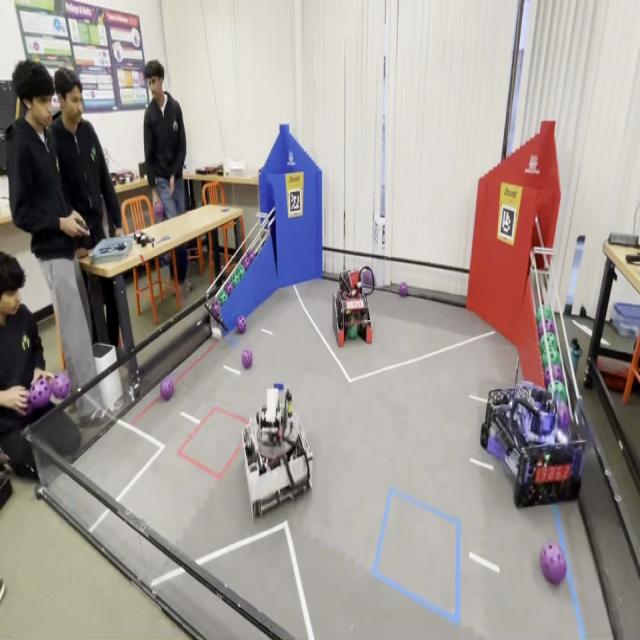artifact_green: (548, 381, 567, 405), (556, 401, 571, 431), (542, 349, 560, 369), (536, 305, 553, 324), (540, 334, 559, 351), (154, 200, 163, 221), (217, 290, 228, 306), (398, 281, 408, 297), (347, 324, 357, 340), (212, 299, 221, 316), (225, 280, 234, 296), (232, 270, 241, 286), (242, 254, 250, 270), (237, 264, 245, 279), (248, 249, 256, 263)
artifact_purple: (540, 542, 567, 585), (30, 379, 51, 408), (52, 374, 70, 400), (557, 401, 571, 432), (545, 364, 563, 387), (538, 319, 555, 338), (160, 376, 173, 400), (361, 270, 373, 286), (154, 200, 163, 220), (242, 350, 252, 368), (237, 316, 246, 334), (212, 299, 221, 316), (225, 280, 234, 296), (242, 254, 251, 270), (25, 400, 33, 417), (399, 283, 408, 297), (248, 249, 255, 264)
